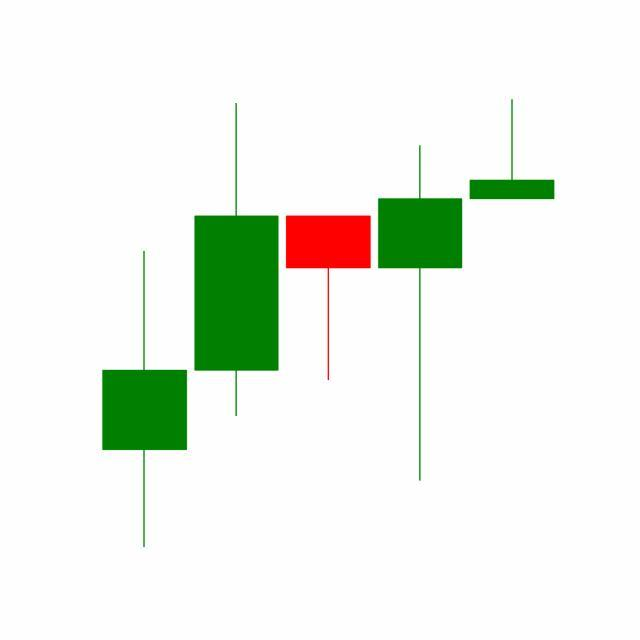Gravestone Doji: (466, 98, 559, 201)
